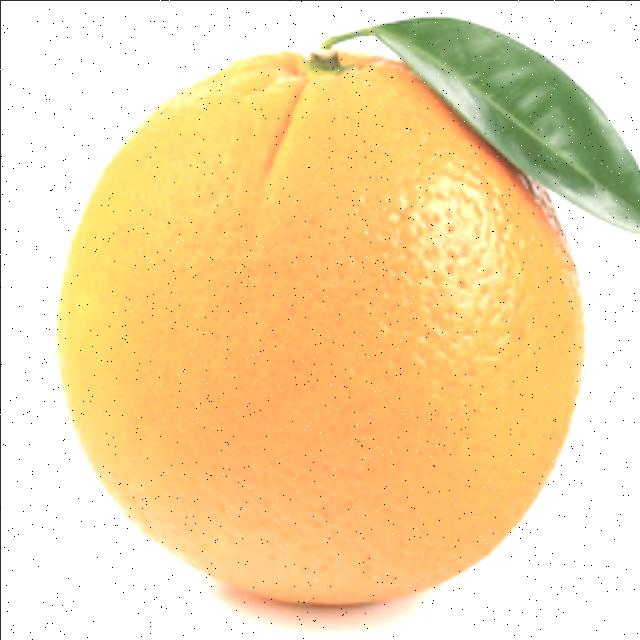orange: (51, 43, 590, 606)
